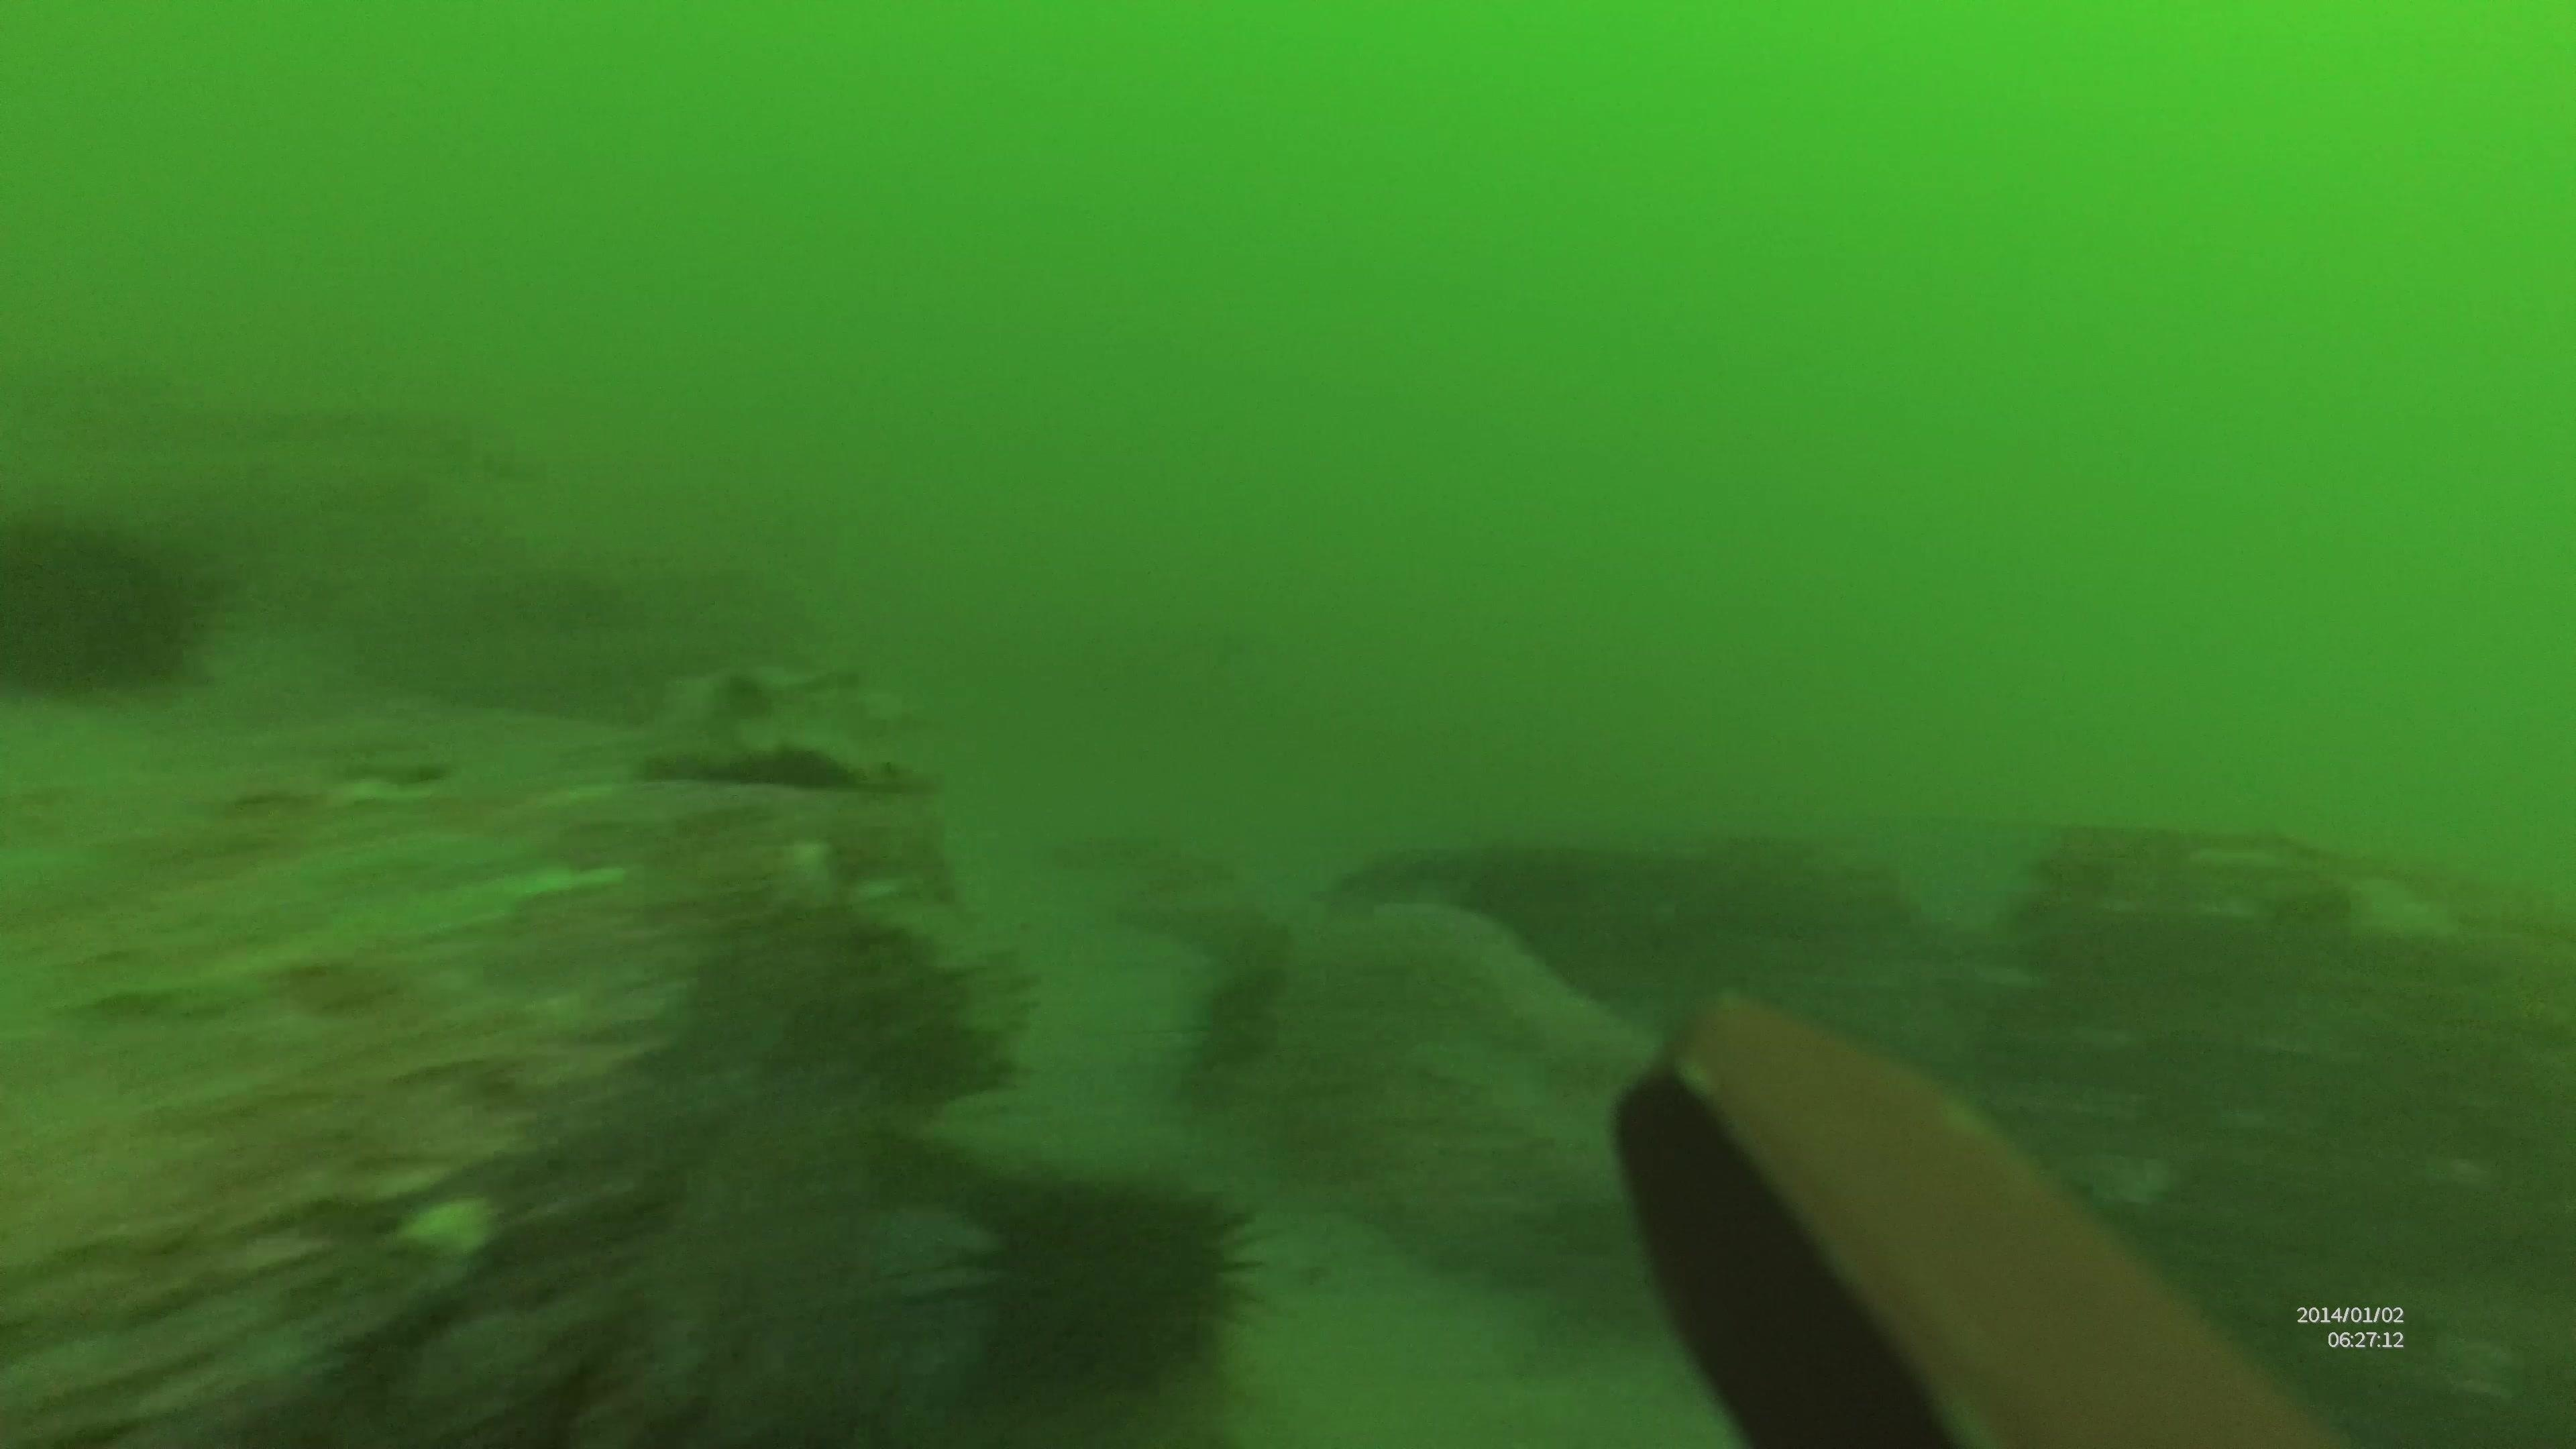echinus: (918, 1159, 1274, 1431), (2, 495, 225, 706)
holothurian: (628, 651, 938, 798)
